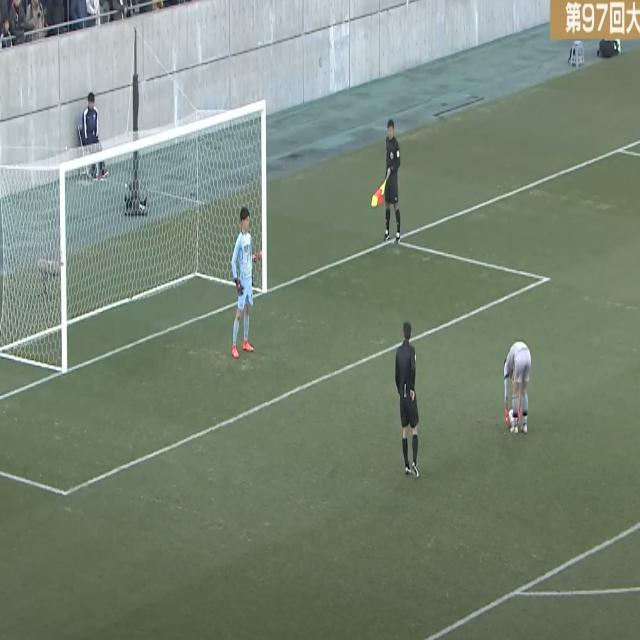right-top: (164, 104, 264, 144)
soccer-goal: (64, 105, 264, 372)
